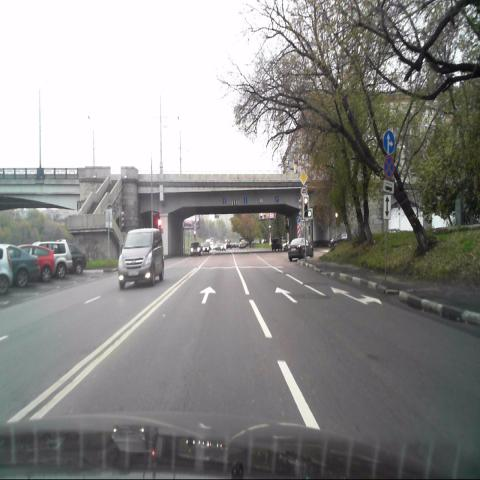3_27: (383, 154, 395, 178)
4_1_4: (383, 129, 396, 154)
8_2_4: (383, 194, 391, 219)
8_4_4: (384, 178, 394, 193)
